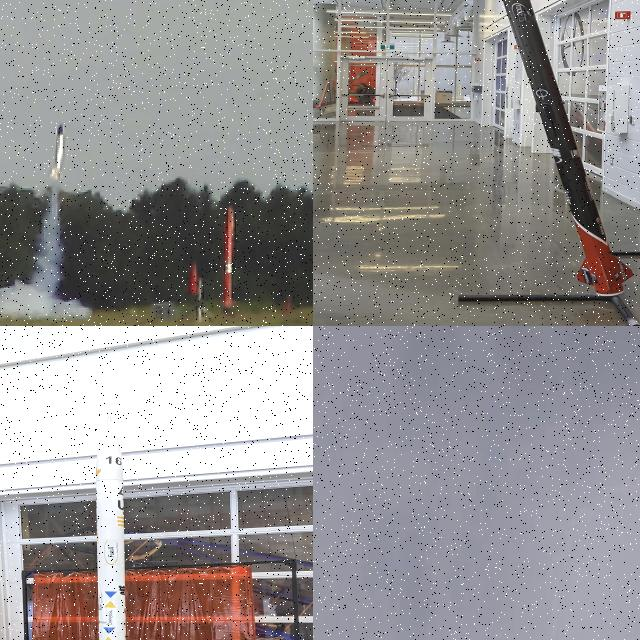Rocket: (502, 0, 634, 296), (96, 416, 126, 640), (223, 206, 236, 310), (48, 122, 68, 182), (189, 263, 198, 296)
